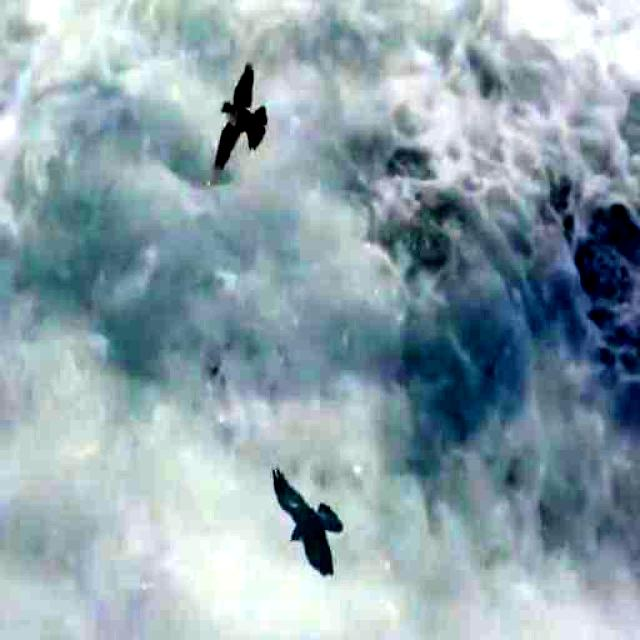airplane: (260, 454, 359, 588), (202, 51, 279, 180)
